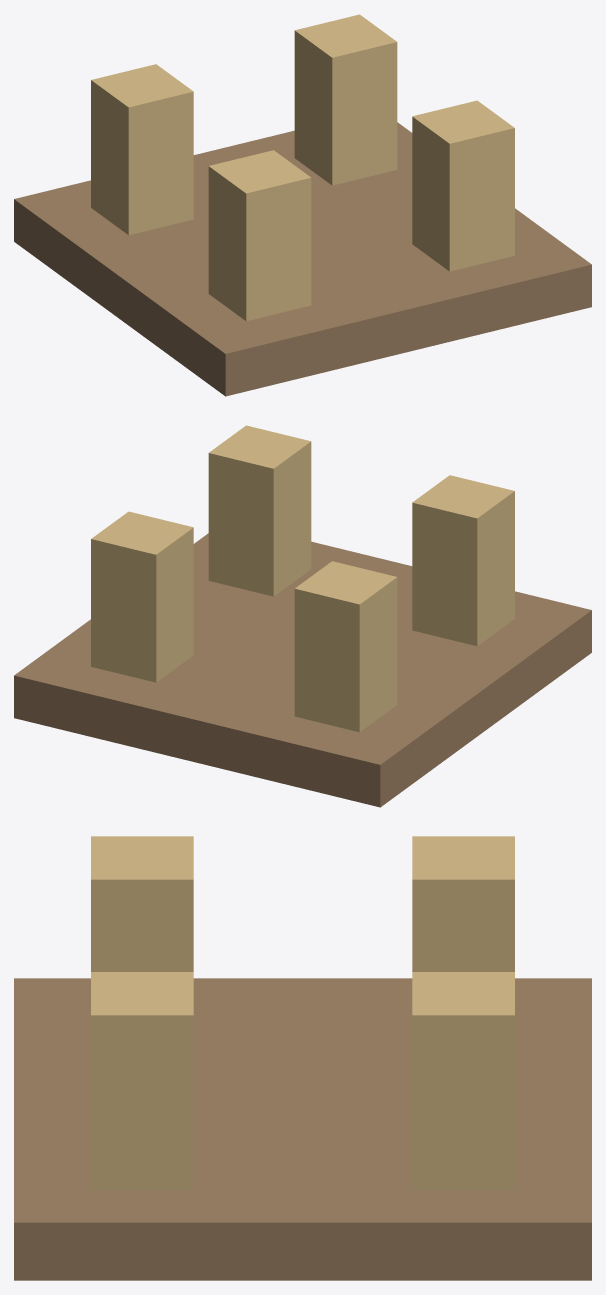
File: Prop_DS_Crop_Spudlet_S2_V0.glb
The picture shows the model from 3 angles, top to bottom: view 1: azimuth 30°, elevation 25°; view 2: azimuth 150°, elevation 25°; view 3: azimuth 270°, elevation 25°; orthographic projection. The views are drawn at different scales.
Visible parts, largest first — view 1: Prop_DS_Crop_Spudlet_S2_V0; view 2: Prop_DS_Crop_Spudlet_S2_V0; view 3: Prop_DS_Crop_Spudlet_S2_V0.
Boxes of the visible parts, <box> form: Prop_DS_Crop_Spudlet_S2_V0: <box>14,14,591,396</box>; Prop_DS_Crop_Spudlet_S2_V0: <box>14,425,591,807</box>; Prop_DS_Crop_Spudlet_S2_V0: <box>14,836,591,1280</box>.
Bounding box in the file's own units: 0.9 × 0.4 × 0.9.
